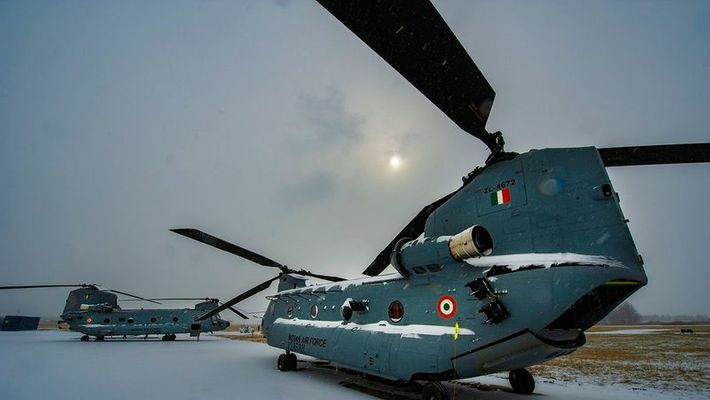chinook: (262, 111, 656, 399), (50, 274, 242, 345)
